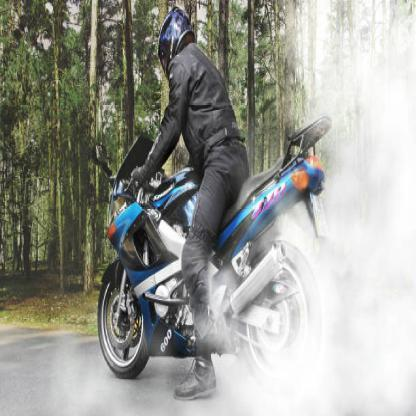Motorcycle: (85, 130, 330, 382)
